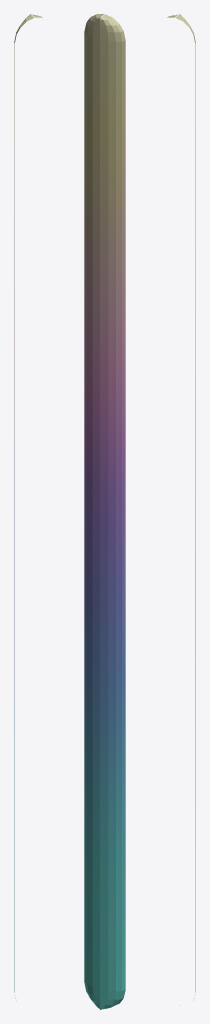
Rendered from striplamp.glb.
The picture shows the model from 3 angles, left to right: view 1: azimuth 30°, elevation 25°; view 2: azimuth 150°, elevation 25°; view 3: azimuth 330°, elevation 25°; orthographic projection.
Parts seen in each view (by area): view 1: SebitGallery_striplamp; view 2: SebitGallery_striplamp; view 3: SebitGallery_striplamp.
Part boxes in pixels (x1,y1,x2,y2): SebitGallery_striplamp: (14, 14, 42, 998); SebitGallery_striplamp: (84, 14, 125, 1009); SebitGallery_striplamp: (167, 14, 195, 1005).
Size of the model in its own units: 0.101 by 2.34 by 0.022.
